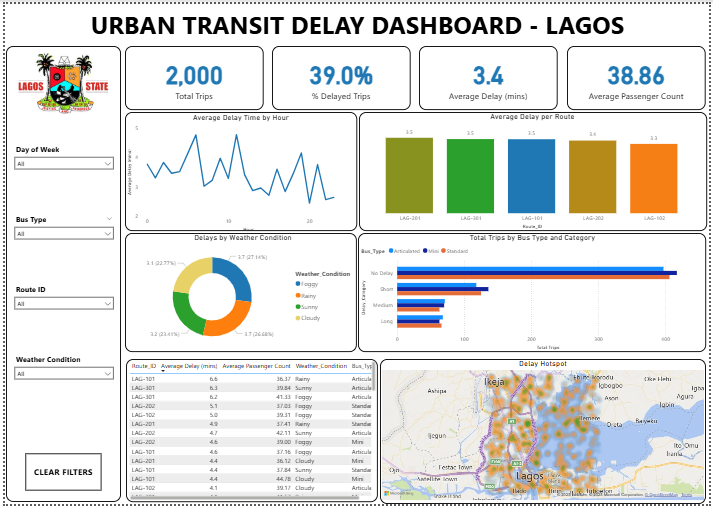

Layout of this report page (visuals, bound fields, positions):
{"tool":"powerbi","page":{"name":"Page 1","canvas":[1550,1100],"ordinal":0},"visuals":[{"type":"map","title":"Delay Hotspot ","fields":{"X":["lagos_transit_cleaned.Longitude"],"Y":["lagos_transit_cleaned.Latitude"],"Size":["Sum(lagos_transit_cleaned.Delay_Minutes)"]},"box":[825,781,717.2,314.6],"z":0},{"type":"clusteredBarChart","title":"Total Trips by Bus Type and Category","fields":{"Category":["lagos_transit_cleaned.Delay_Category"],"Y":["lagos_transit_cleaned.Total Trips"],"Series":["lagos_transit_cleaned.Bus_Type"]},"box":[778.8,503.8,763.4,261.8],"z":1000},{"type":"shape","box":[825,781,717.2,319],"z":2000},{"type":"shape","box":[776.6,504.2,765.6,261.8],"z":3000},{"type":"shape","box":[264.1,238.1,510.9,261.9],"z":4000},{"type":"lineChart","title":"Average Delay Time by Hour","fields":{"Category":["lagos_transit_cleaned.Hour"],"Y":["lagos_transit_cleaned.Average Delay (mins)"]},"box":[264,239.8,510.4,266.2],"z":5000},{"type":"shape","box":[266.2,781,554.4,314.6],"z":6000},{"type":"textbox","box":[36.9,2.2,1476.2,90.2],"z":7000},{"type":"card","fields":{"Values":["lagos_transit_cleaned.Total Trips"]},"box":[263.1,93.3,305.5,141.4],"z":8000},{"type":"card","fields":{"Values":["lagos_transit_cleaned.% Delayed Trips"]},"box":[587.5,93.3,305.5,141.4],"z":9000},{"type":"card","fields":{"Values":["lagos_transit_cleaned.Average Delay (mins)"]},"box":[911.8,93.3,305.5,141.4],"z":10000},{"type":"card","fields":{"Values":["lagos_transit_cleaned.Average Passenger Count"]},"box":[1236.1,93.3,305.5,141.4],"z":11000},{"type":"shape","box":[778.8,237.6,765.6,261.8],"z":12000},{"type":"shape","box":[264,504.2,510.4,261.8],"z":13000},{"type":"shape","box":[2.2,92.4,253,1003.2],"z":14000},{"type":"clusteredColumnChart","title":"Average Delay per Route","fields":{"Category":["lagos_transit_cleaned.Route_ID"],"Y":["lagos_transit_cleaned.Average Delay (mins)"]},"box":[778.8,237.6,763.4,261.8],"z":15000},{"type":"donutChart","title":"Delays by Weather Condition","fields":{"Category":["lagos_transit_cleaned.Weather_Condition"],"Y":["lagos_transit_cleaned.Average Delay (mins)"]},"box":[268.4,503.8,510.4,261.8],"z":16000},{"type":"tableEx","fields":{"Values":["lagos_transit_cleaned.Route_ID","lagos_transit_cleaned.Average Delay (mins)","lagos_transit_cleaned.Average Passenger Count","lagos_transit_cleaned.Weather_Condition","lagos_transit_cleaned.Bus_Type"]},"box":[268.4,781,552.2,314.6],"z":17000},{"type":"image","box":[11,61.6,237.6,224.4],"z":18000},{"type":"slicer","fields":{"Values":["lagos_transit_cleaned.Day_of_Week"]},"box":[11,303.6,237.6,167.2],"z":19000},{"type":"slicer","fields":{"Values":["lagos_transit_cleaned.Bus_Type"]},"box":[11,457.6,237.6,167.2],"z":20000},{"type":"slicer","fields":{"Values":["lagos_transit_cleaned.Route_ID"]},"box":[11,611.6,237.6,167.2],"z":21000},{"type":"slicer","fields":{"Values":["lagos_transit_cleaned.Weather_Condition"]},"box":[11,765.6,237.6,167.2],"z":22000},{"type":"actionButton","box":[44,987.8,169.4,83.6],"z":23000}]}

Visuals, with their boxes in screenshot pixels (x1, y1, x2, y2), scaled from the page's 1550x1100 canvas onto the 713x507 screenshot:
"Delay Hotspot " map: l=380, t=360, r=709, b=505
"Total Trips by Bus Type and Category" clusteredBarChart: l=358, t=232, r=709, b=353
shape: l=380, t=360, r=709, b=506
shape: l=357, t=232, r=709, b=353
shape: l=121, t=110, r=356, b=230
"Average Delay Time by Hour" lineChart: l=121, t=111, r=356, b=233
shape: l=122, t=360, r=377, b=505
textbox: l=17, t=1, r=696, b=43
card - lagos_transit_cleaned.Total Trips: l=121, t=43, r=262, b=108
card - lagos_transit_cleaned.% Delayed Trips: l=270, t=43, r=411, b=108
card - lagos_transit_cleaned.Average Delay (mins): l=419, t=43, r=560, b=108
card - lagos_transit_cleaned.Average Passenger Count: l=569, t=43, r=709, b=108
shape: l=358, t=110, r=710, b=230
shape: l=121, t=232, r=356, b=353
shape: l=1, t=43, r=117, b=505
"Average Delay per Route" clusteredColumnChart: l=358, t=110, r=709, b=230
"Delays by Weather Condition" donutChart: l=123, t=232, r=358, b=353
tableEx - lagos_transit_cleaned.Route_ID x lagos_transit_cleaned.Average Delay (mins): l=123, t=360, r=377, b=505
image: l=5, t=28, r=114, b=132
slicer - lagos_transit_cleaned.Day_of_Week: l=5, t=140, r=114, b=217
slicer - lagos_transit_cleaned.Bus_Type: l=5, t=211, r=114, b=288
slicer - lagos_transit_cleaned.Route_ID: l=5, t=282, r=114, b=359
slicer - lagos_transit_cleaned.Weather_Condition: l=5, t=353, r=114, b=430
actionButton: l=20, t=455, r=98, b=494
